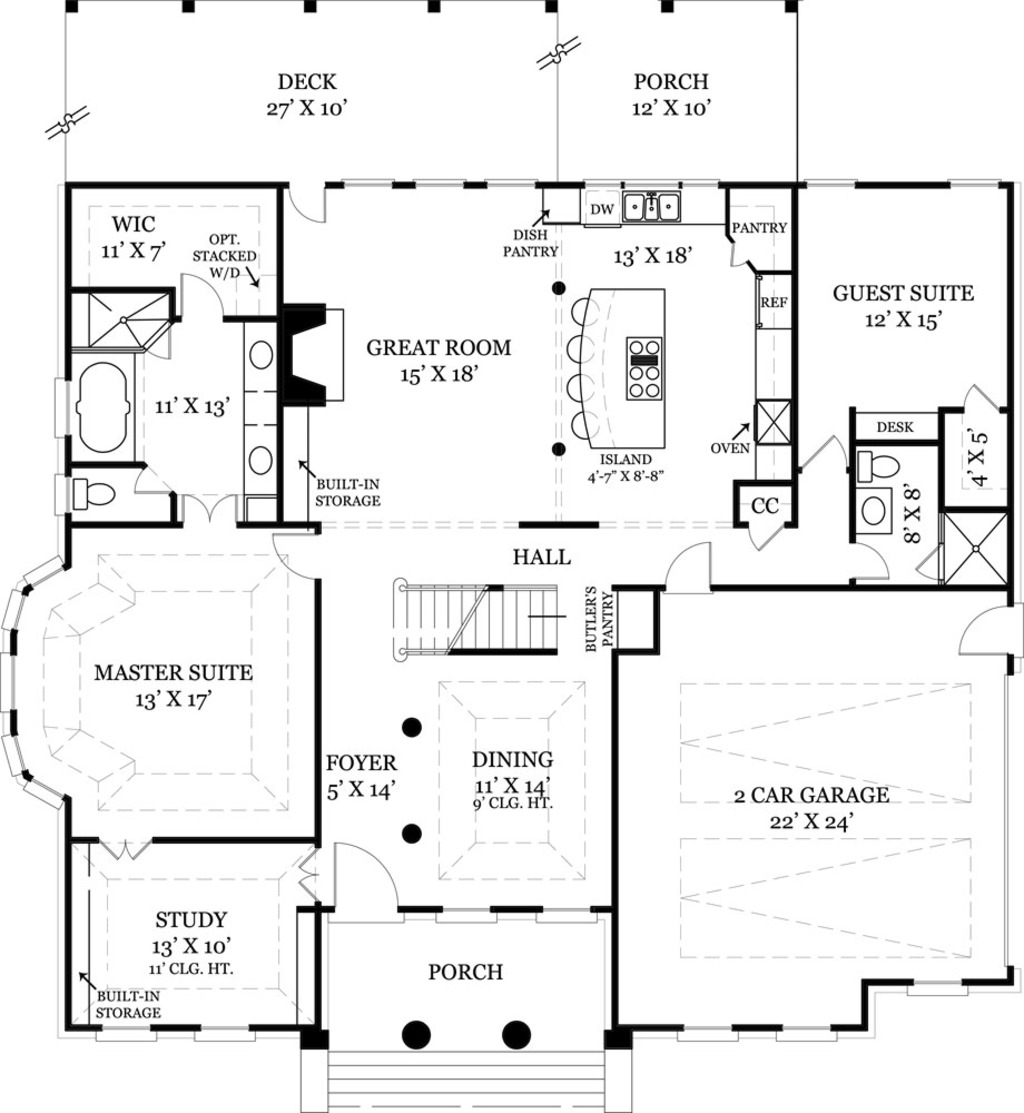door: (327, 843, 405, 925), (957, 598, 1024, 667), (662, 536, 715, 600), (173, 266, 226, 328), (267, 524, 320, 578), (175, 493, 241, 530), (797, 434, 849, 478), (286, 176, 333, 224), (842, 537, 890, 580), (955, 376, 1000, 418), (288, 844, 321, 900), (96, 835, 153, 861), (125, 469, 170, 498)
kitchen_bar: (563, 281, 669, 451)
large_sink: (68, 475, 121, 514), (853, 450, 901, 486)
small_sink: (238, 323, 283, 497), (850, 483, 896, 540)
stairs: (382, 575, 564, 666)
tub: (69, 348, 137, 467)
twin_sink: (622, 187, 684, 232)
window: (2, 556, 68, 808), (520, 901, 604, 926), (800, 173, 862, 200), (432, 903, 508, 924), (895, 980, 972, 1000), (674, 1020, 737, 1044), (484, 175, 542, 198), (339, 172, 395, 195), (408, 176, 467, 196), (774, 1025, 840, 1039), (950, 180, 1001, 194)
